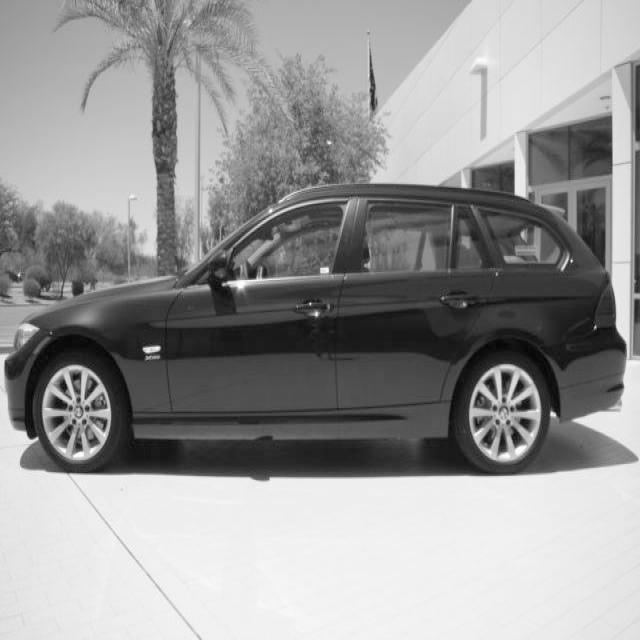car: (3, 181, 627, 475)
